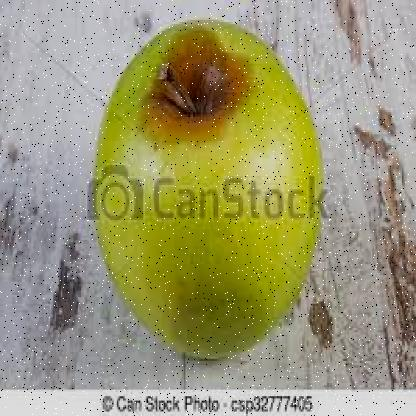damaged_apple: (95, 22, 321, 356)
